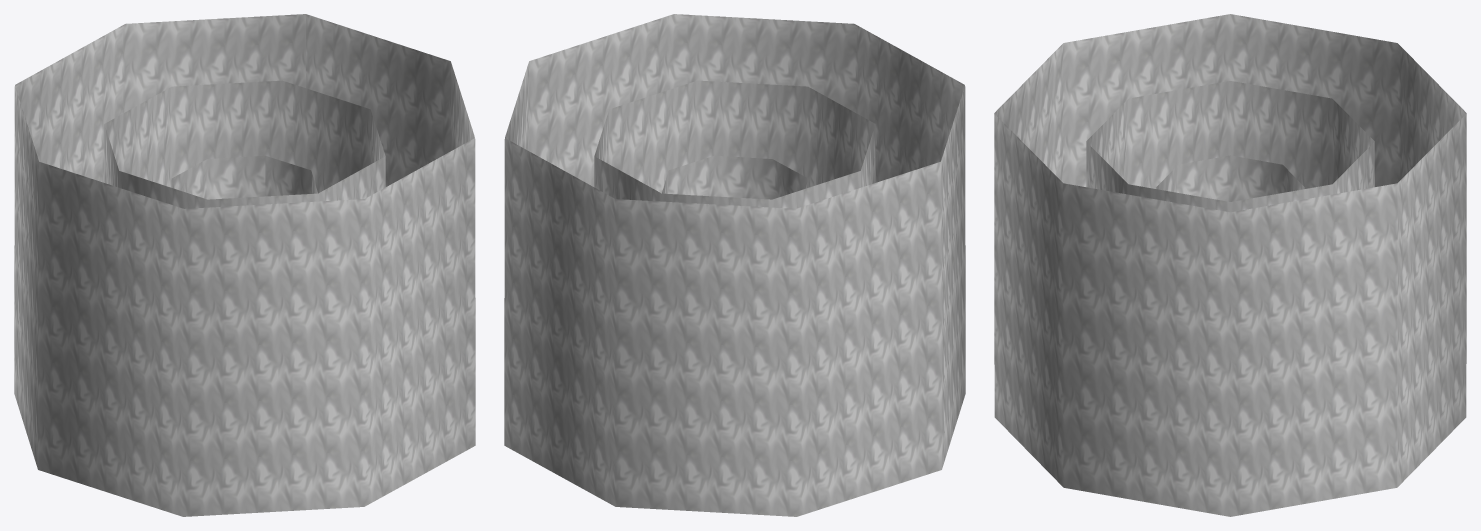
File: rainDrops.fbx
3 renders of one model, left to right at view 1: azimuth 30°, elevation 25°; view 2: azimuth 150°, elevation 25°; view 3: azimuth 270°, elevation 25°, orthographic.
Visible parts, largest first — view 1: cylinder03, cylinder02, cylinder01; view 2: cylinder03, cylinder02, cylinder01; view 3: cylinder03, cylinder02, cylinder01.
Part boxes in pixels (x1=…): cylinder03: x1=14, y1=14, x2=475, y2=516; cylinder02: x1=104, y1=80, x2=385, y2=208; cylinder01: x1=171, y1=155, x2=317, y2=199; cylinder03: x1=504, y1=14, x2=965, y2=516; cylinder02: x1=594, y1=80, x2=875, y2=208; cylinder01: x1=662, y1=155, x2=808, y2=199; cylinder03: x1=994, y1=14, x2=1466, y2=516; cylinder02: x1=1086, y1=81, x2=1374, y2=212; cylinder01: x1=1156, y1=155, x2=1304, y2=201.
Size of the model in its own units: 73.82 by 52.49 by 73.94.
Materials: 1 (1 with a texture image).
